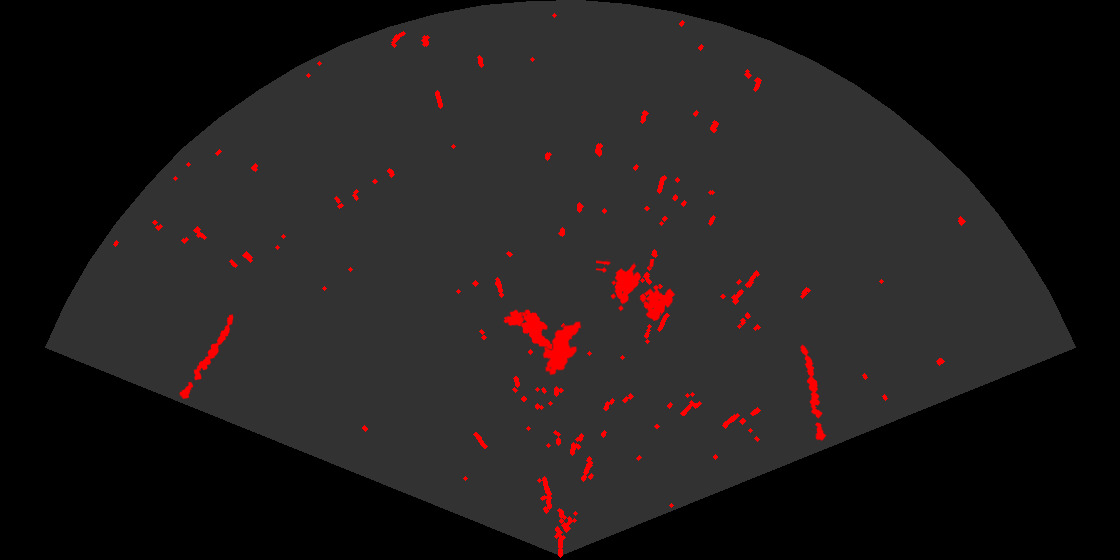AUV: (541, 320, 583, 377), (520, 308, 554, 351), (502, 308, 540, 329)
cage: (596, 259, 677, 323)
chain: (178, 313, 235, 401), (799, 343, 828, 443)
